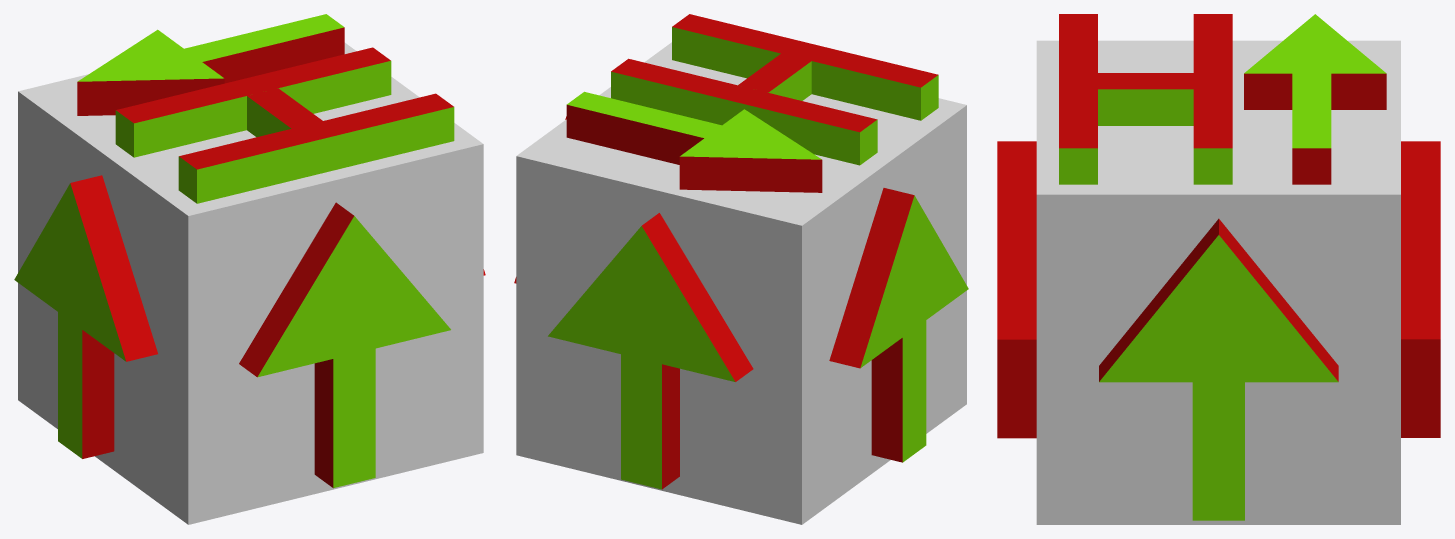
Rendered from HealthUp.fbx.
The picture shows the model from 3 angles, left to right: view 1: azimuth 30°, elevation 25°; view 2: azimuth 150°, elevation 25°; view 3: azimuth 270°, elevation 25°; orthographic projection. The views are drawn at different scales.
Parts seen in each view (by area): view 1: pCube2; view 2: pCube2; view 3: pCube2.
Part boxes in pixels (left/top/right/bottom): pCube2: left=14, top=14, right=485, bottom=524; pCube2: left=514, top=14, right=968, bottom=524; pCube2: left=997, top=14, right=1440, bottom=524.
Size of the model in its own units: 38.2 by 34.94 by 38.29.
